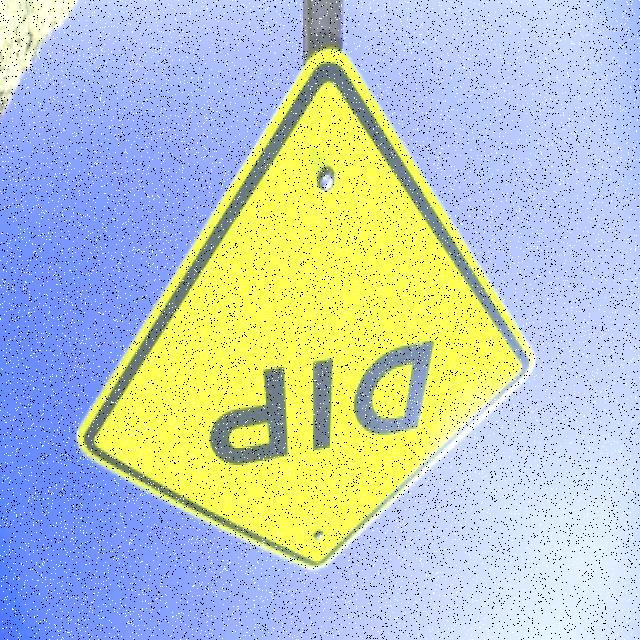Traffic sign: (75, 48, 540, 578)
